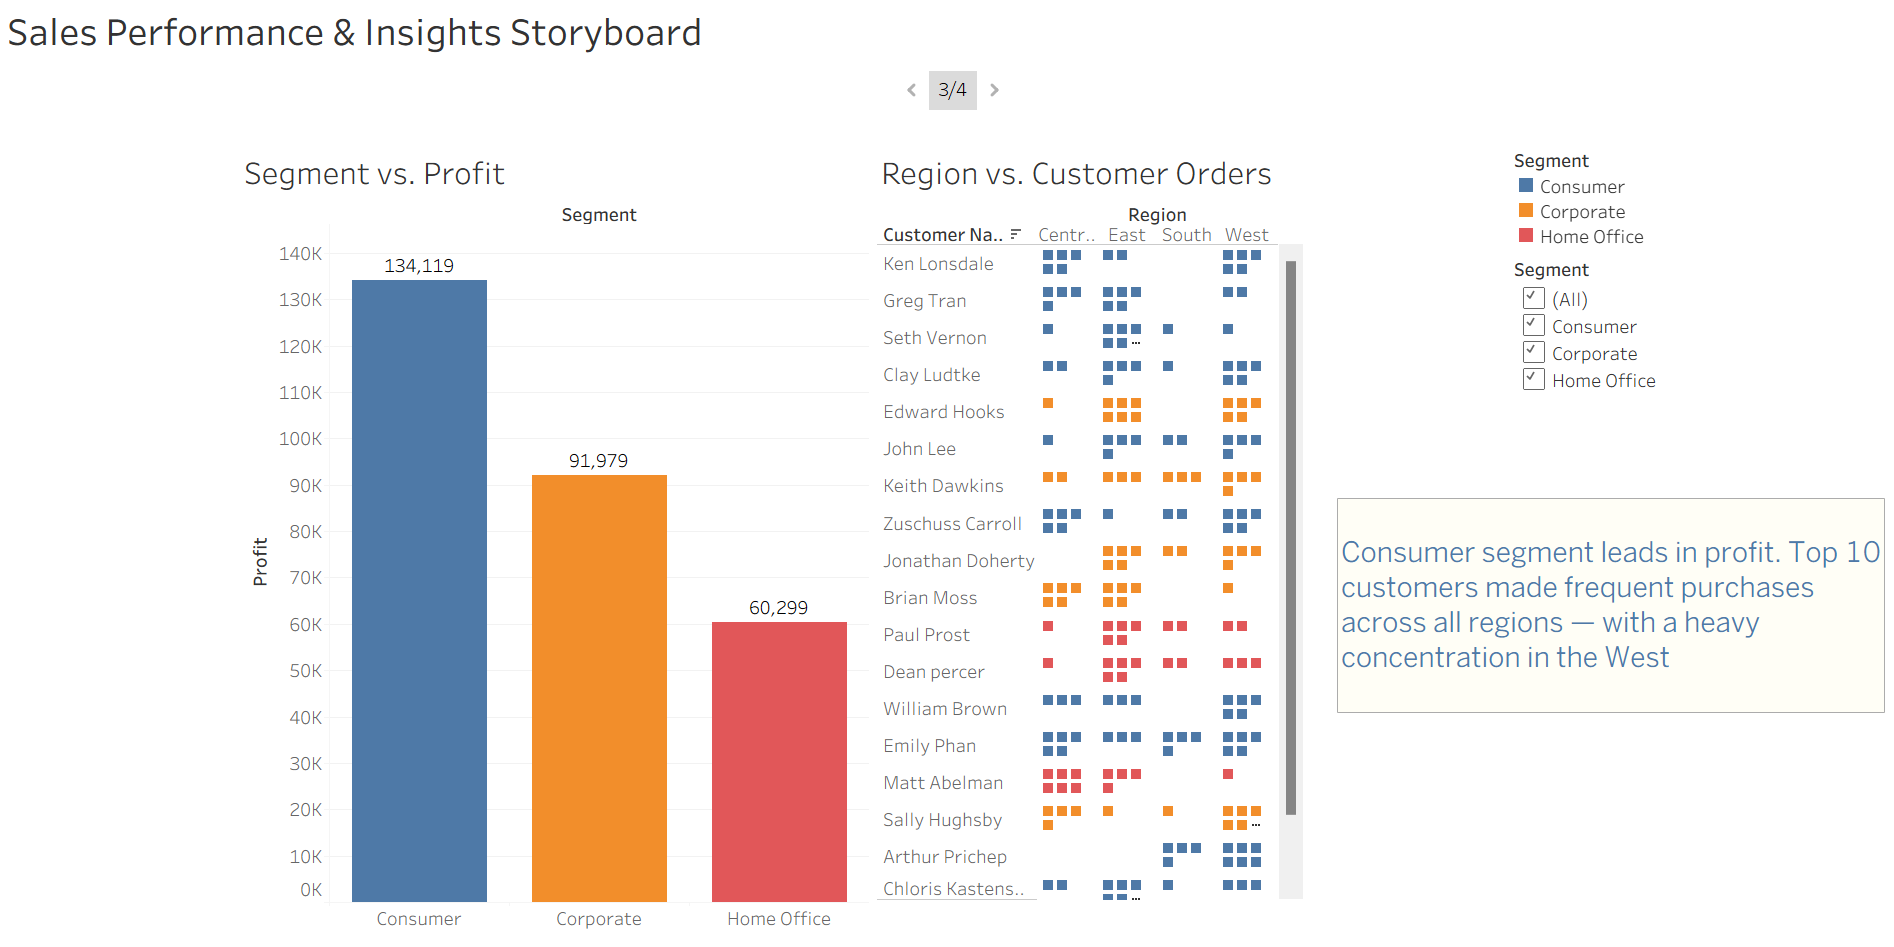

The page's visual inventory and layout, read from the dashboard file:
{"tool":"tableau","page":{"name":"Customer Behavior","canvas":[1000,1000],"units":"permille","ordinal":0},"visuals":[{"type":"worksheet","title":"Segment vs. Profit","mark":"Automatic","rows":["Profit"],"cols":["Segment"],"box":[5.5,10.7,439.3,978.6]},{"type":"worksheet","title":"Region vs. Customer Orders","mark":"Square","rows":["Customer Name"],"cols":["Region"],"box":[444.8,10.7,439.4,978.6]},{"type":"legend","title":"Segment vs. Profit","param":"[federated.14pgfx41t2hcty10zaxzi1ew9a1v].[none:Segment:nk]","box":[884.1,10.7,110.3,145.9]},{"type":"filter","title":"Region vs. Customer Orders","param":"[federated.14pgfx41t2hcty10zaxzi1ew9a1v].[none:Segment:nk]","box":[884.1,156.6,110.3,198.1]}]}

Visuals, with their boxes on the dashboard's canvas, which has no fixed pixel size, in thousandths of its width and height (x1, y1, x2, y2). These are canvas units, not pixel positions in the 1894x947 screenshot, which may show the page scaled, cropped or inside an application window:
"Segment vs. Profit" worksheet: x1=6 y1=11 x2=445 y2=989
"Region vs. Customer Orders" worksheet (Square marks): x1=445 y1=11 x2=884 y2=989
"Segment vs. Profit" legend: x1=884 y1=11 x2=994 y2=157
"Region vs. Customer Orders" filter: x1=884 y1=157 x2=994 y2=355
